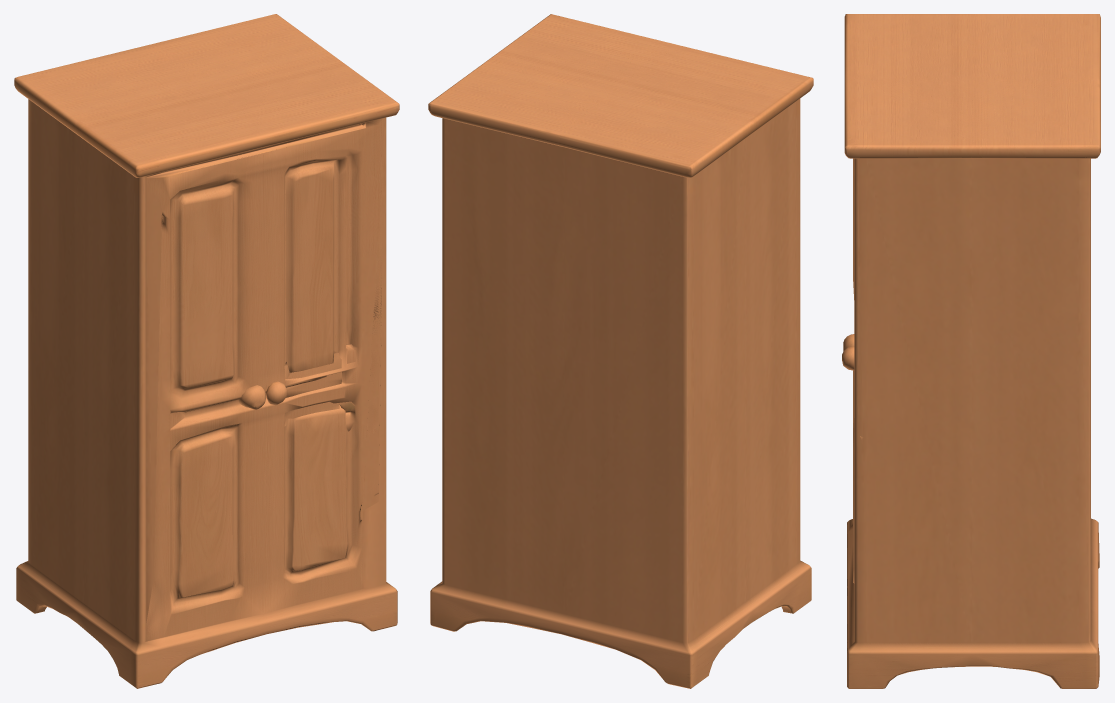
The model's file is wardrobe.glb.
3 renders of one model, left to right at view 1: azimuth 30°, elevation 25°; view 2: azimuth 150°, elevation 25°; view 3: azimuth 270°, elevation 25°, orthographic. The views are drawn at different scales.
Size of the model in its own units: 1.01 by 1.91 by 0.8219.
Materials: 1 (1 with a texture image).
